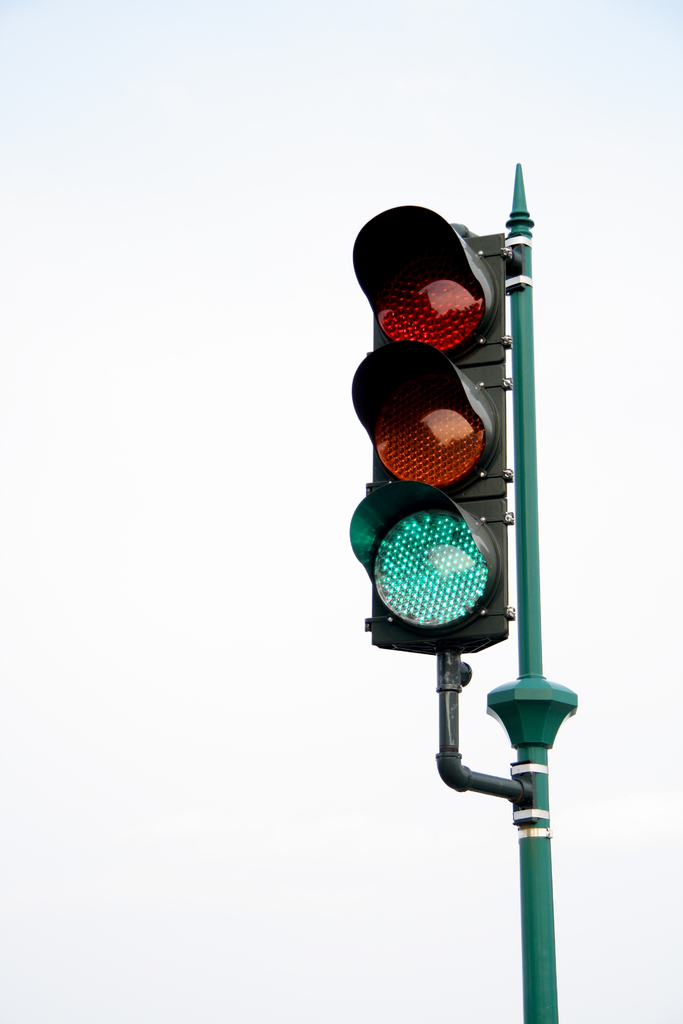green_light: (359, 213, 502, 638)
